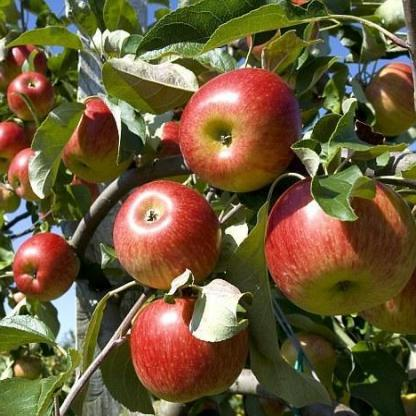apple: (268, 166, 416, 312), (176, 65, 302, 200), (120, 287, 255, 401), (114, 180, 222, 292), (54, 92, 142, 176), (16, 228, 82, 298), (8, 140, 66, 202), (5, 70, 60, 127)
